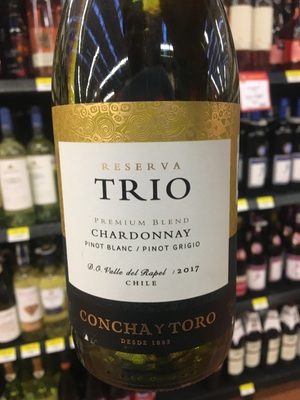trio chardonnay: (49, 20, 255, 387)
